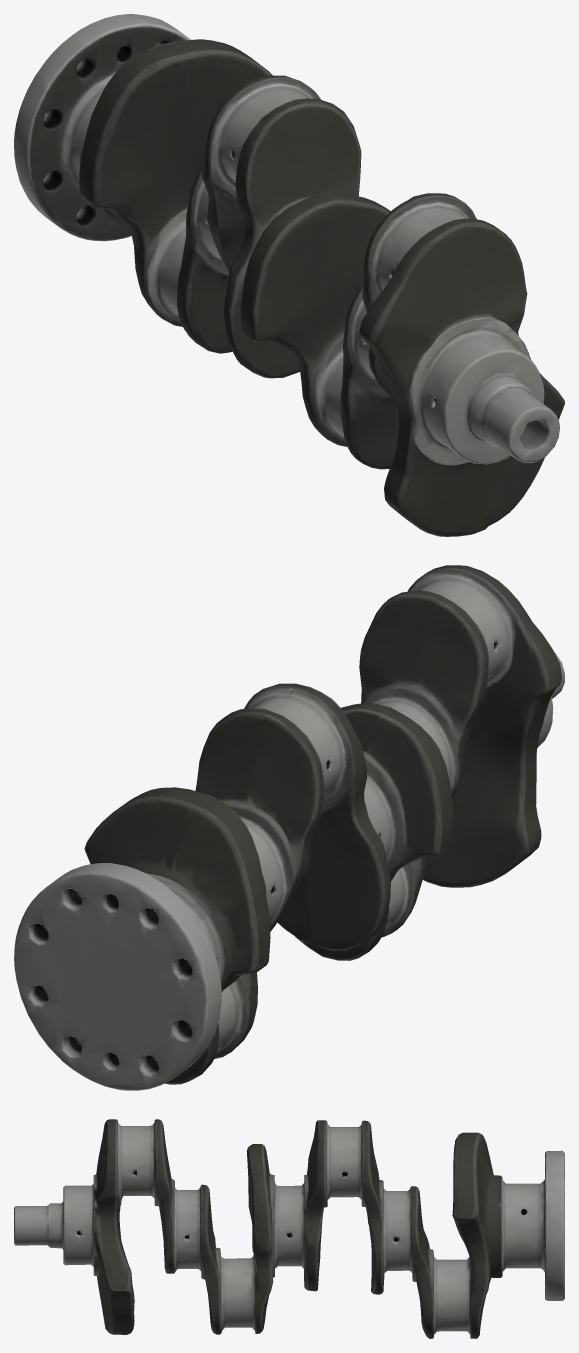
The model's file is piston-crankshaft.glb.
3 renders of one model, top to bottom at view 1: azimuth 30°, elevation 25°; view 2: azimuth 150°, elevation 25°; view 3: azimuth 270°, elevation 25°, orthographic. The views are drawn at different scales.
Visible parts, largest first — view 1: tripo_node_b0db9a97-49d2-4e86-9213-de27f87de086; view 2: tripo_node_b0db9a97-49d2-4e86-9213-de27f87de086; view 3: tripo_node_b0db9a97-49d2-4e86-9213-de27f87de086.
Part boxes in pixels (left/top/right/bottom): tripo_node_b0db9a97-49d2-4e86-9213-de27f87de086: left=14, top=14, right=564, bottom=536; tripo_node_b0db9a97-49d2-4e86-9213-de27f87de086: left=14, top=565, right=564, bottom=1090; tripo_node_b0db9a97-49d2-4e86-9213-de27f87de086: left=14, top=1119, right=564, bottom=1338.
Size of the model in its own units: 0.2779 by 0.4051 by 1.
1 material, 1 textured.
